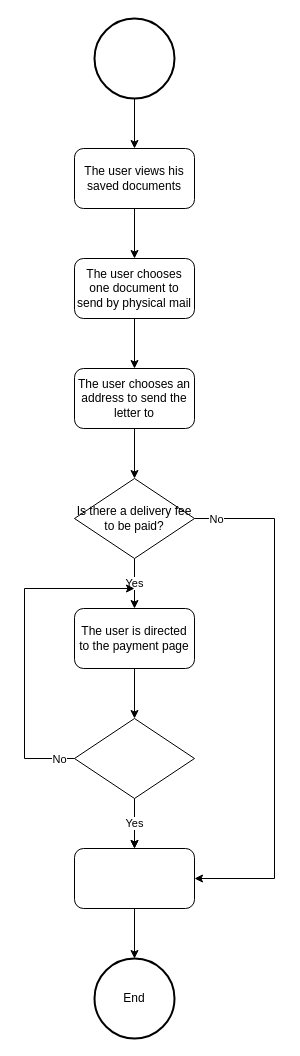
This 300x1056 diagram has some shape labels left out. The centre of each missing label's shape, as x and y in pixels:
"Start" goes at [134,58].
"The order is added to the database" goes at [134,878].
"Was the payment successful?" goes at [134,758].
